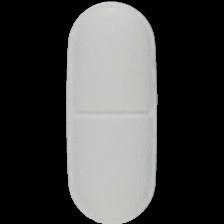63304-165: (0, 0, 224, 224)
